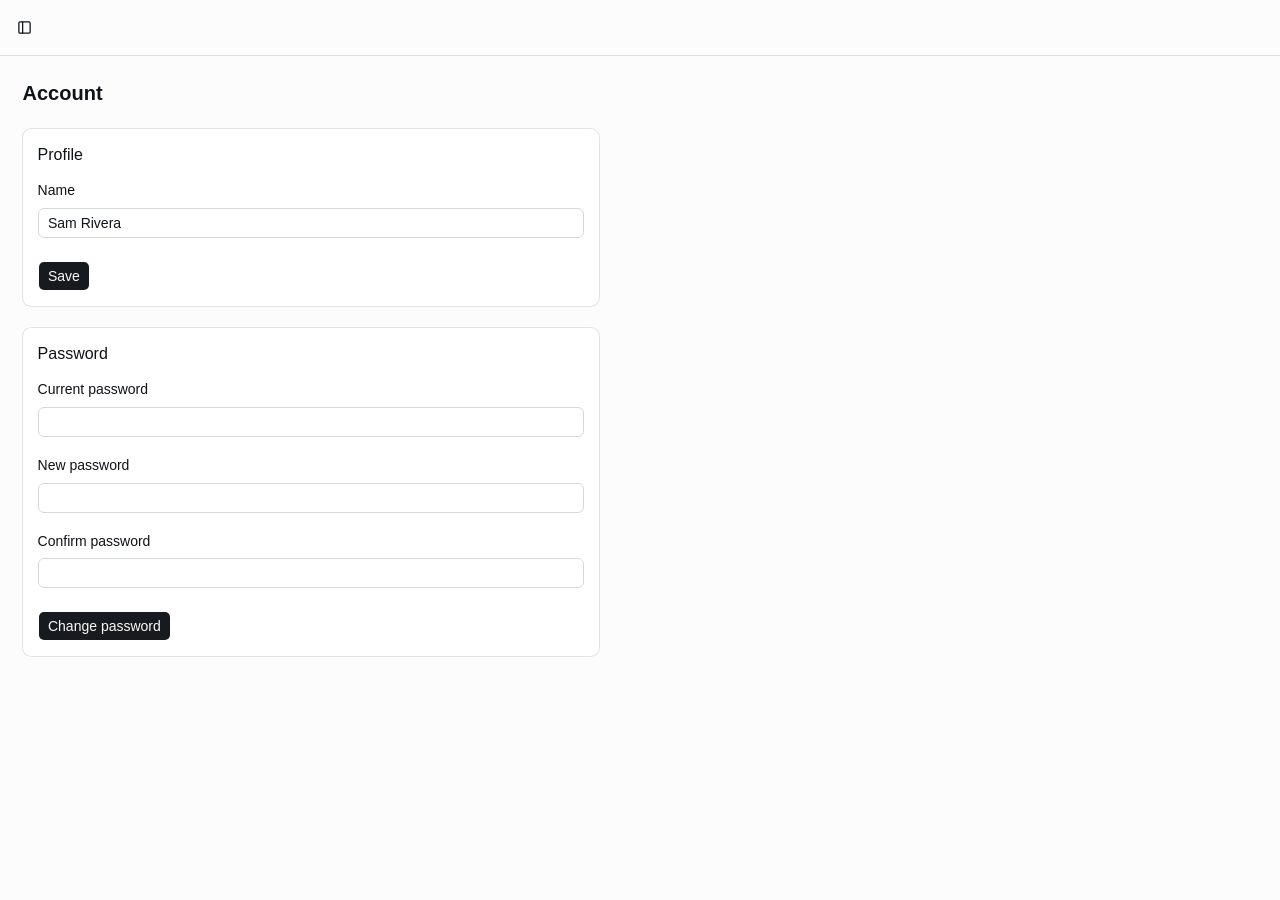
Test case: the password change rate limit shows the wait in seconds
The width and height of the screenshot is (1280, 900).
Type "correct horse battery" into the password field labelled "Current password" at coordinates (311, 422), box [38, 407, 584, 437]
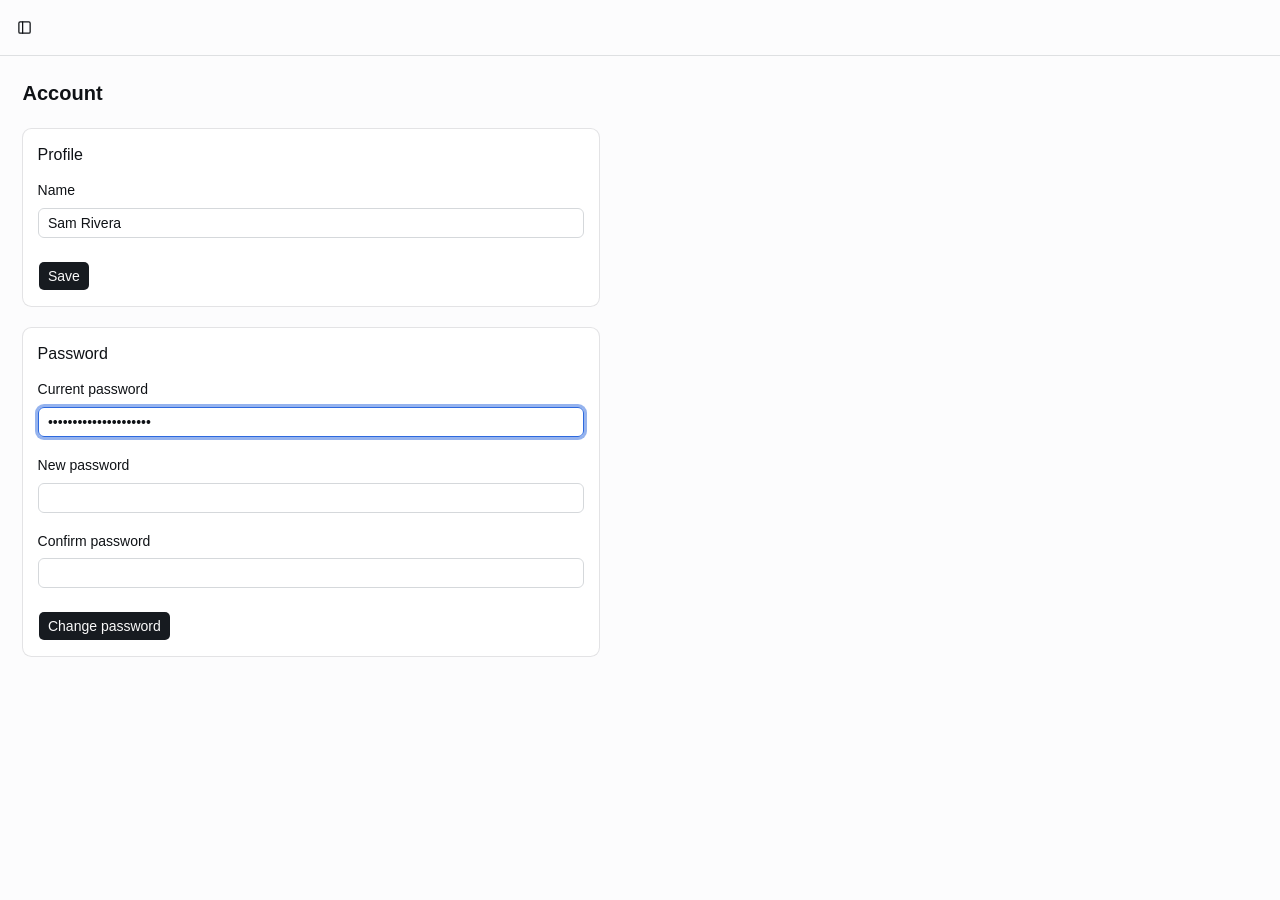
Type "tangerine submarine lighthouse" into the password field labelled "New password" at coordinates (311, 498), box [38, 483, 584, 513]
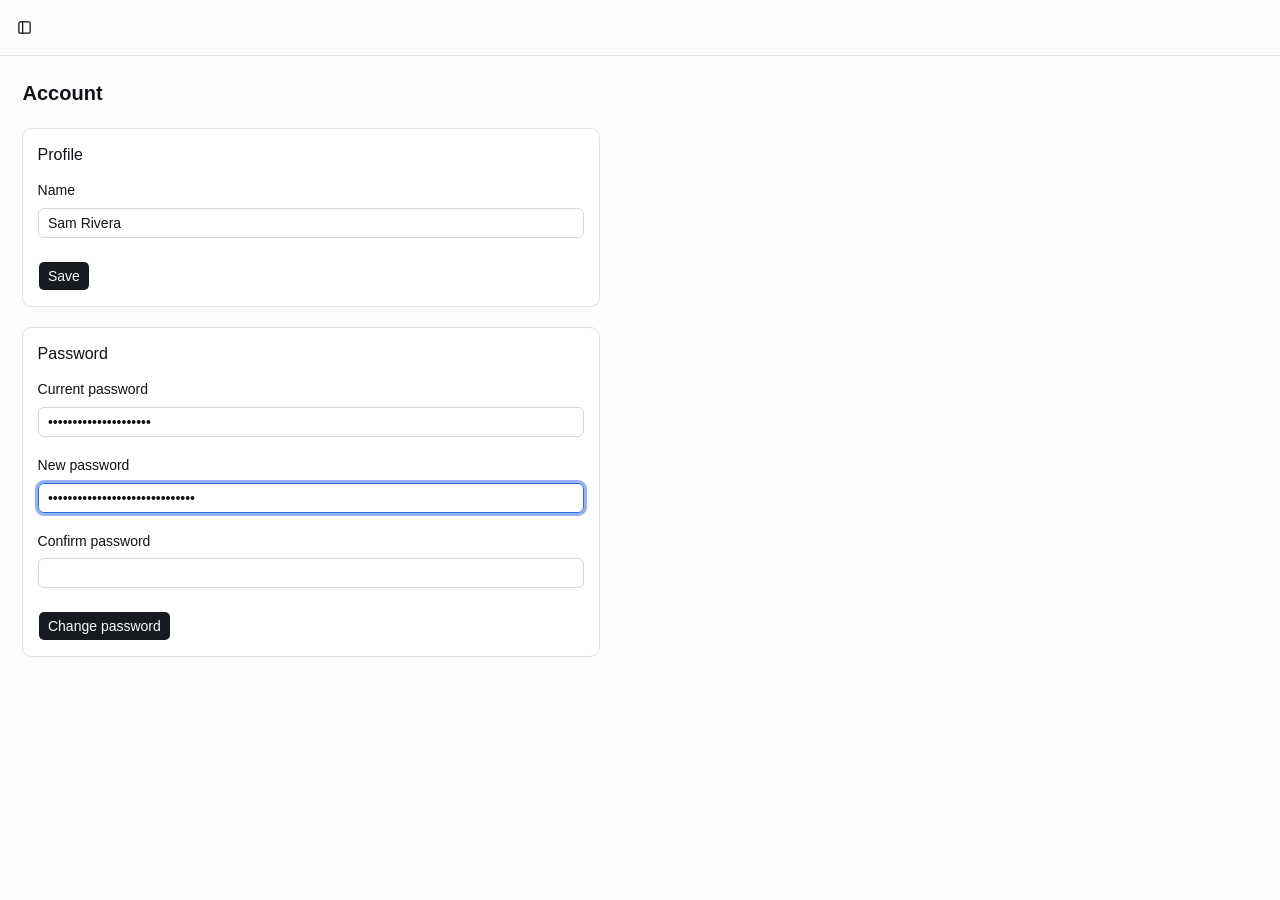
Type "tangerine submarine lighthouse" into the password field labelled "Confirm password" at coordinates (311, 573), box [38, 558, 584, 588]
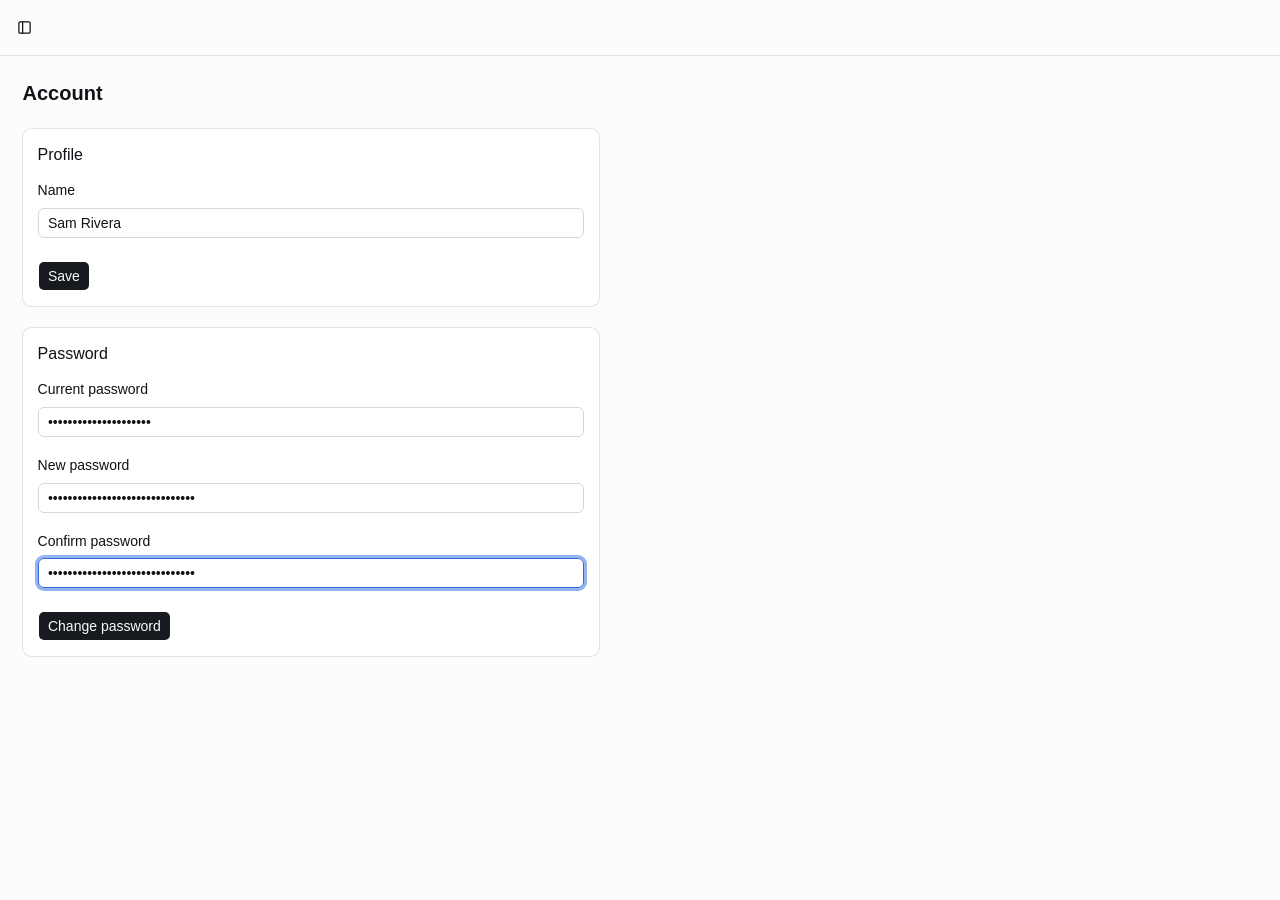
Click the button "Change password" at coordinates (104, 626), box [38, 611, 171, 641]
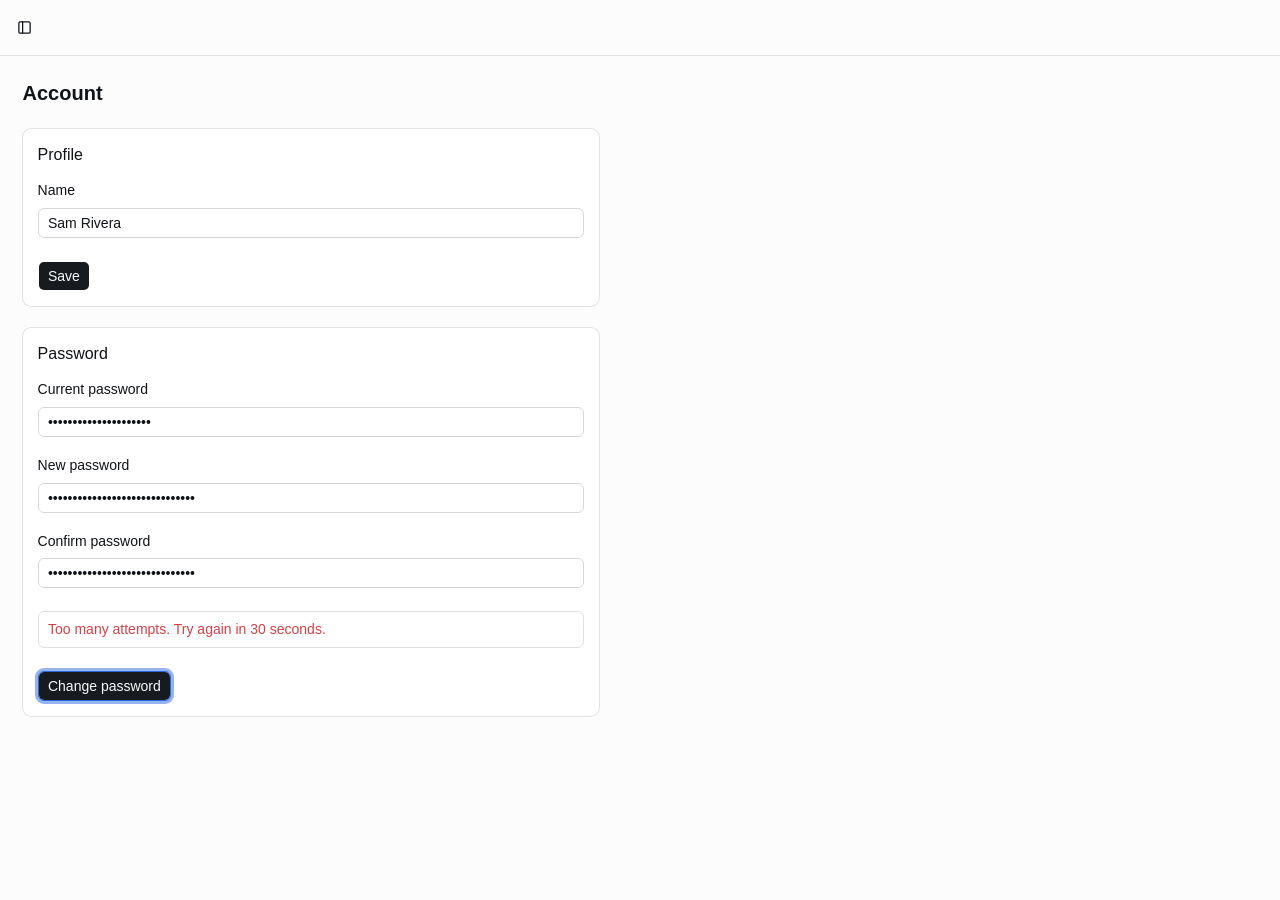
Expected: the text "Too many attempts. Try again in 30 seconds." is shown, [48, 622, 326, 638]
